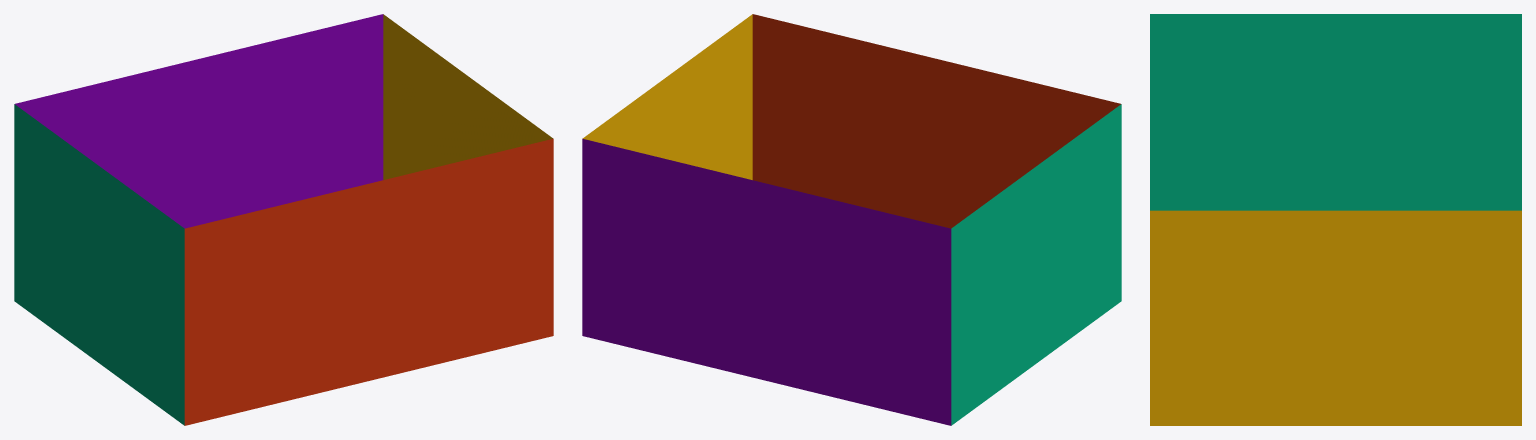
Rendered from dice.fbx.
3 views of the same model, side by side, from view 1: azimuth 30°, elevation 25°; view 2: azimuth 150°, elevation 25°; view 3: azimuth 270°, elevation 25° (orthographic). The views are drawn at different scales.
Visible parts, largest first — view 1: Wall.002, Wall.001, Wall, Wall.003; view 2: Wall.001, Wall.002, Wall, Wall.003; view 3: Wall.003, Wall.
Part boxes in pixels (x1,y1,x2,y2): Wall.002: [184, 138, 553, 425]; Wall.001: [15, 14, 383, 228]; Wall: [14, 104, 184, 425]; Wall.003: [383, 14, 552, 179]; Wall.001: [582, 138, 951, 425]; Wall.002: [752, 14, 1120, 228]; Wall: [951, 104, 1121, 425]; Wall.003: [583, 14, 752, 179]; Wall.003: [1150, 210, 1521, 425]; Wall: [1150, 14, 1521, 210].
Size of the model in its own units: 8.25 by 4.22 by 6.6.
